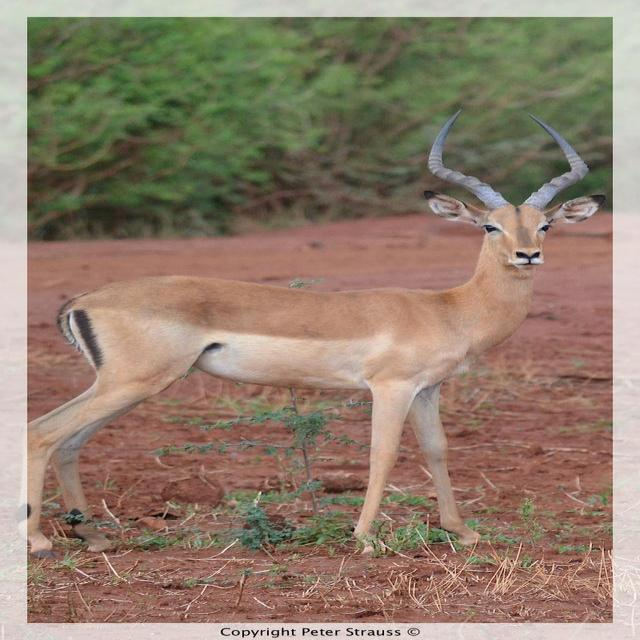Deer: (14, 107, 600, 562)
